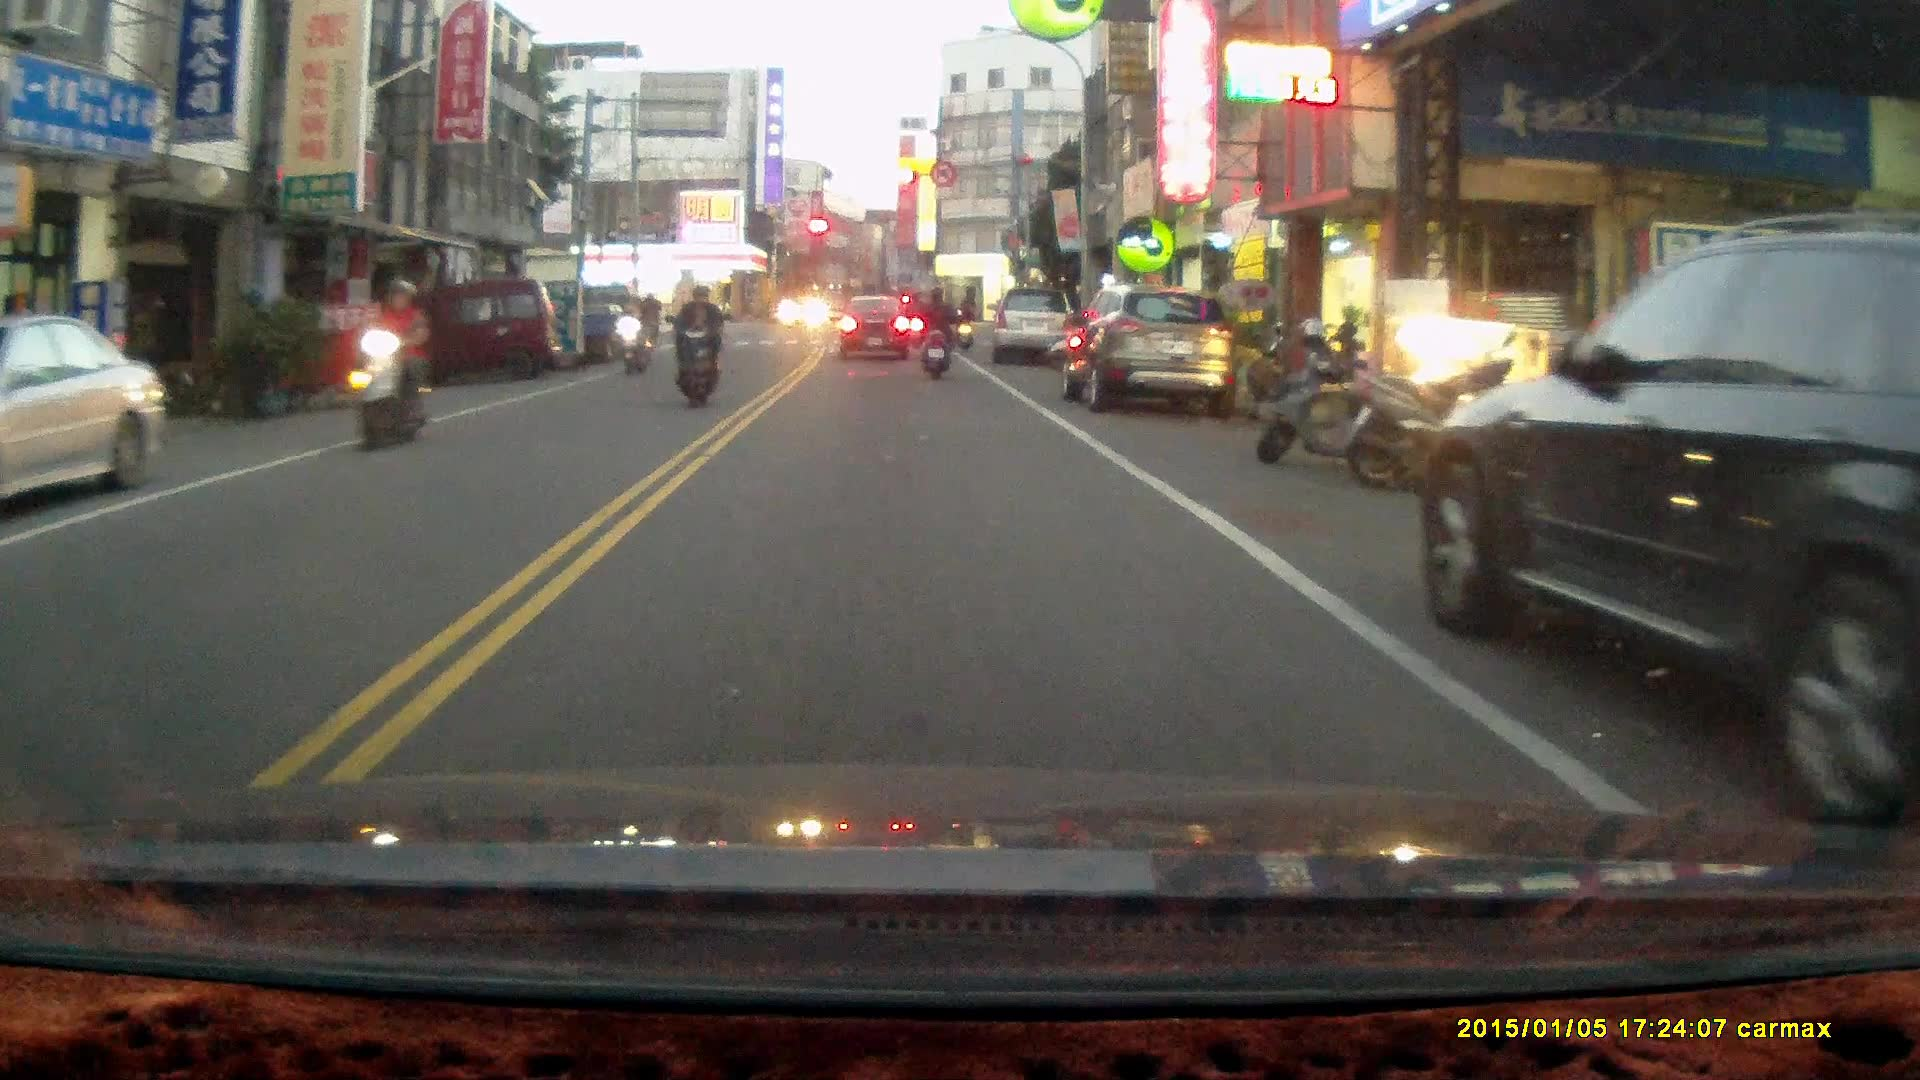rider: (349, 276, 434, 451), (670, 279, 719, 408), (914, 283, 955, 380), (614, 288, 653, 377), (633, 278, 664, 356), (954, 293, 977, 353)
vehicle: (1414, 218, 1920, 808), (1, 315, 162, 518), (1061, 286, 1236, 412), (397, 275, 565, 383), (997, 282, 1076, 362)
